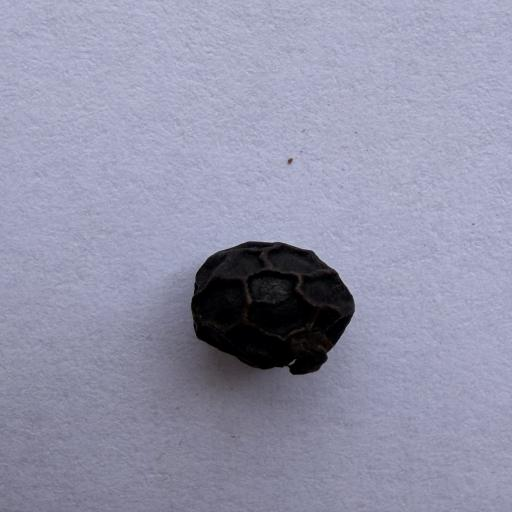Black_pepper: (146, 207, 425, 395)
